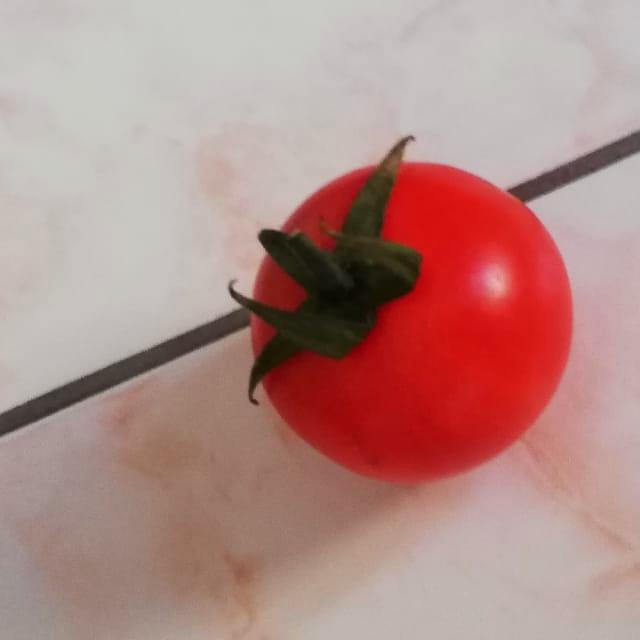tomato: (224, 130, 584, 490)
